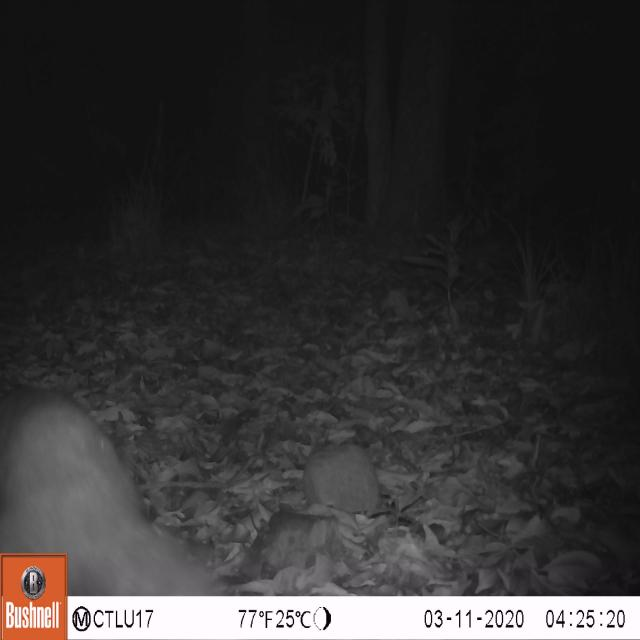Spotted Paca: (0, 363, 233, 595)
